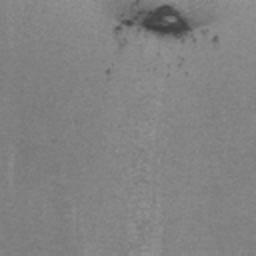Iron sheet ash: (141, 4, 194, 37), (113, 19, 133, 33)
